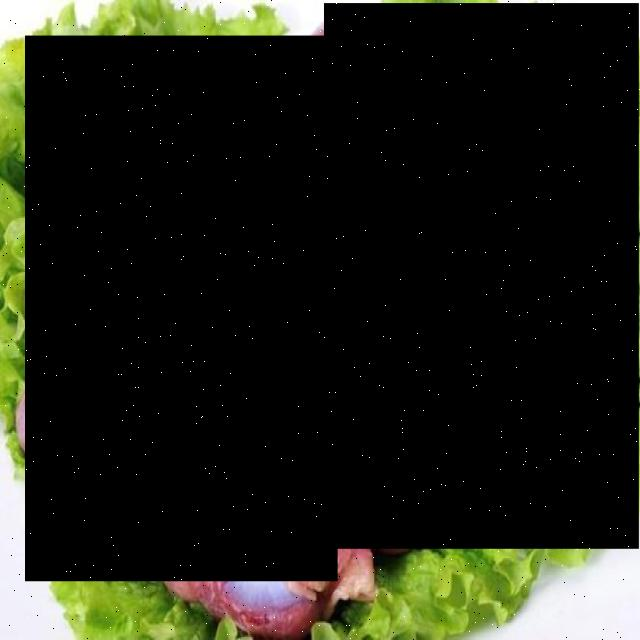Chicken_Gizzards: (325, 3, 640, 549), (25, 36, 338, 582), (34, 107, 492, 467)
